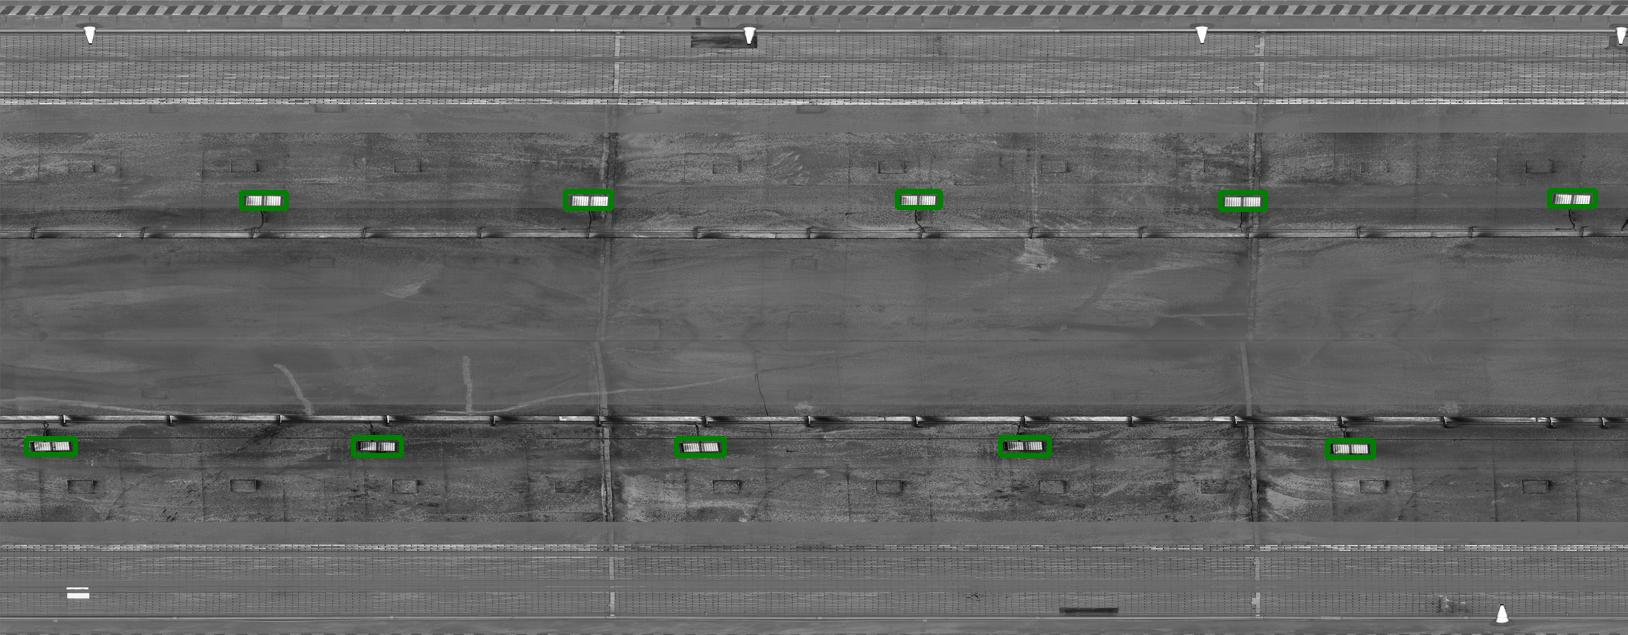light: (1546, 188, 1600, 212), (25, 437, 77, 455), (235, 191, 287, 210), (350, 437, 402, 455), (562, 191, 614, 210), (673, 439, 725, 458), (888, 190, 940, 209), (997, 438, 1049, 457), (1217, 193, 1269, 212), (1324, 439, 1376, 458)
